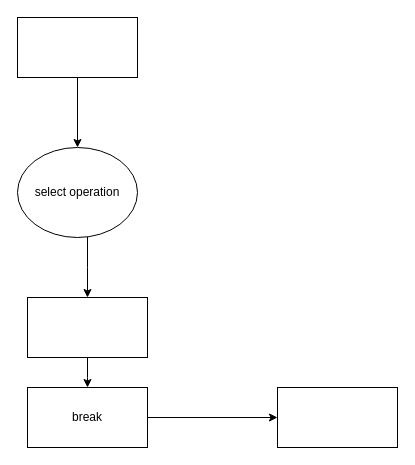
Image size: 415x465. Some labels were removed from this diagram. Here are the shapes that lost their labels. From the top down, the centre of each, then its label:
[77,47]: calculator
[87,327]: result
